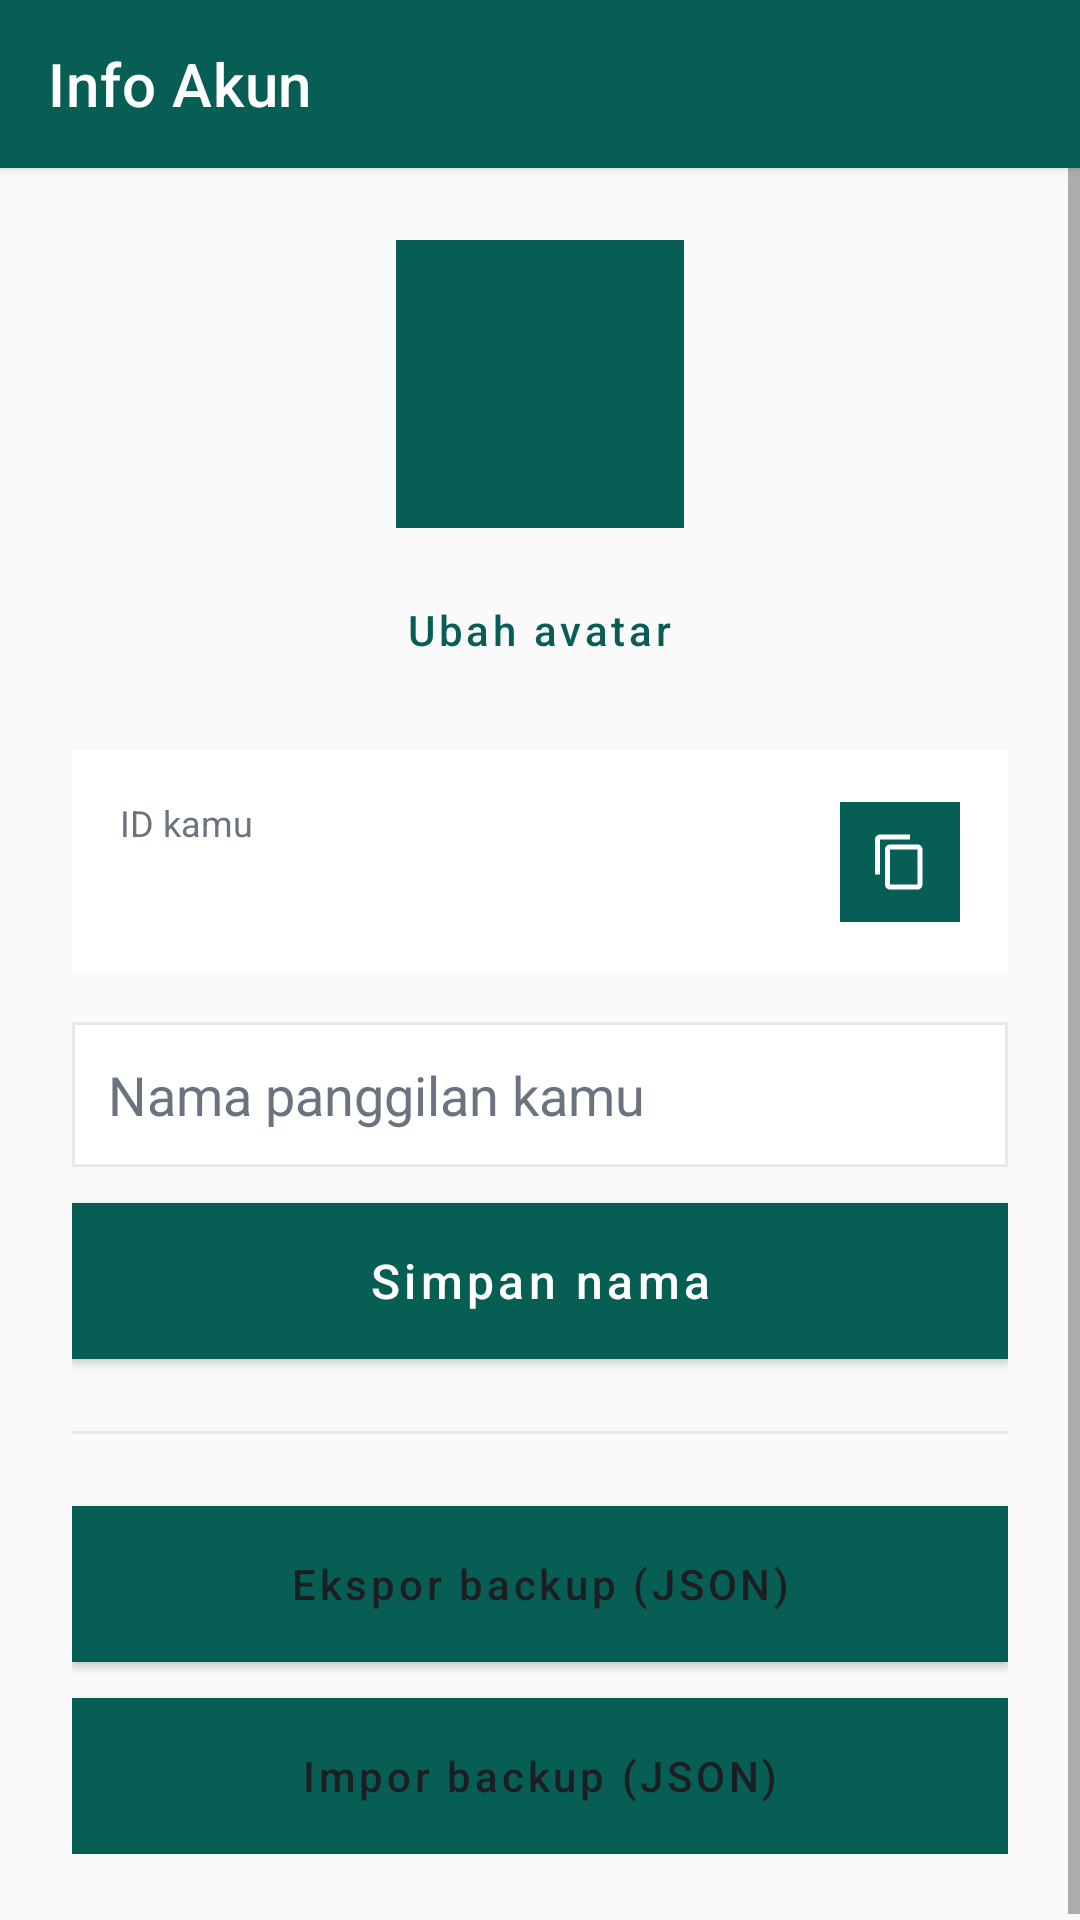

Icons on this 1080px x 1920px Android screen, each with the point to tap as (x,y):
Salin: (900,862)
